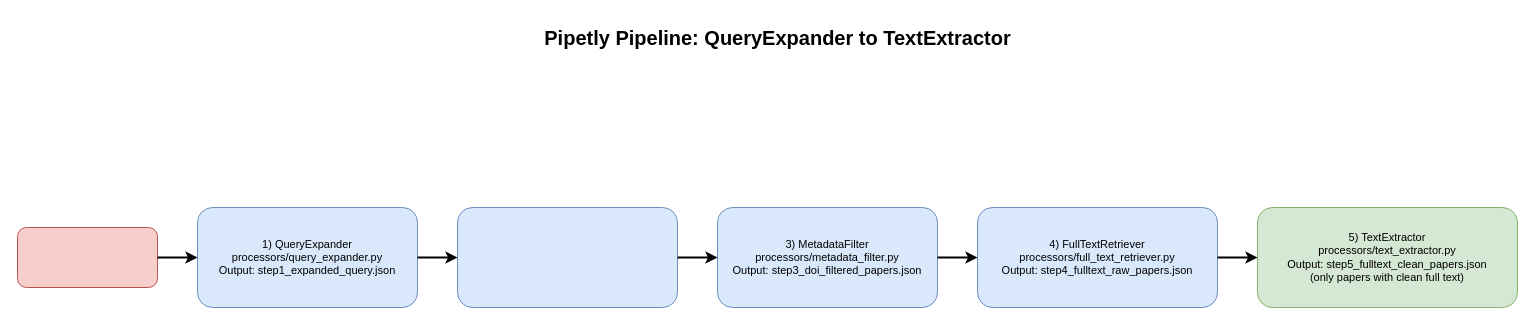
Some shapes in this 1535 by 325 pixel diagram are drawn without their labels. The shapes that lost their labels are listed below. From the top down, each one's centre as x and y in pixels, then its label:
At [87,257]: "User Query".
At [567,257]: "2) PaperSearcher processors/paper_searcher.py Output: step2_raw_papers.json".
